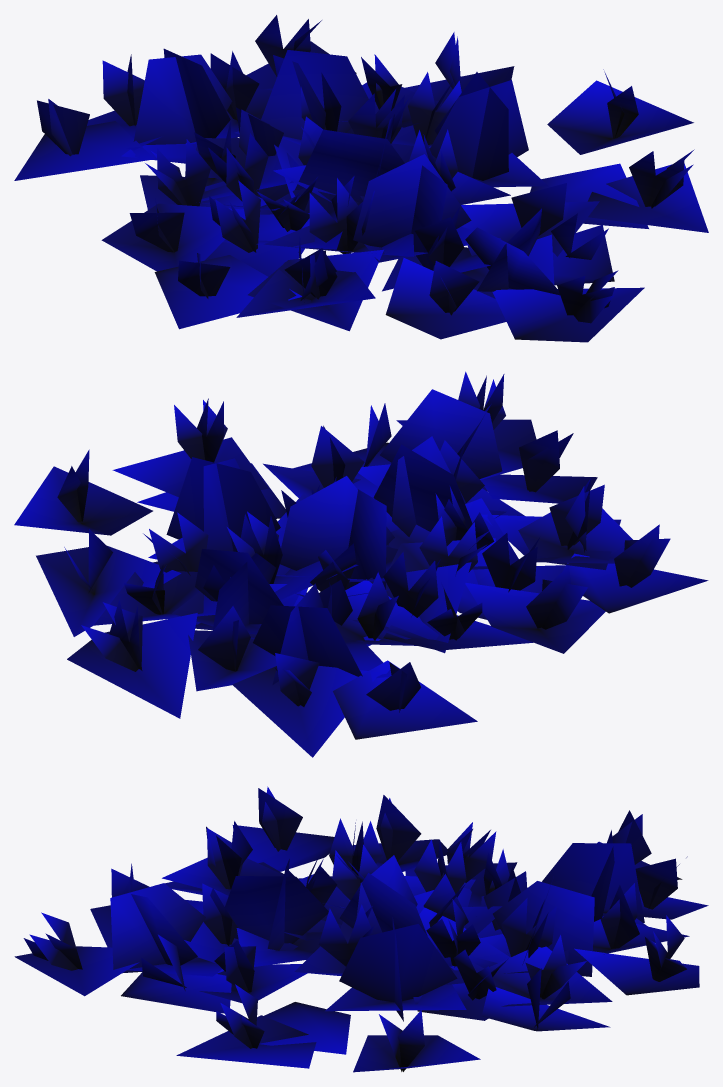
The model's file is SM_Balustrade_400_A_Damaged_D.fbx.
3 views of the same model, one above another, from view 1: azimuth 30°, elevation 25°; view 2: azimuth 150°, elevation 25°; view 3: azimuth 270°, elevation 25° (orthographic). The views are drawn at different scales.
Visible parts, largest first — view 1: SM_WildGrass_06_LOD0; view 2: SM_WildGrass_06_LOD0; view 3: SM_WildGrass_06_LOD0.
Boxes of the visible parts, box(x1,y1,x2,y2) form: SM_WildGrass_06_LOD0: box(14, 15, 708, 342); SM_WildGrass_06_LOD0: box(14, 371, 708, 757); SM_WildGrass_06_LOD0: box(14, 786, 708, 1072).
Size of the model in its own units: 121 by 135 by 23.69.
